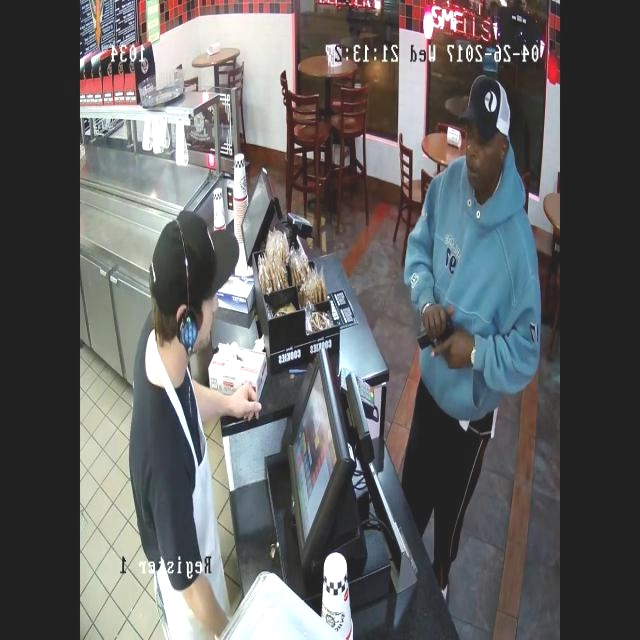gun: (412, 301, 466, 358)
